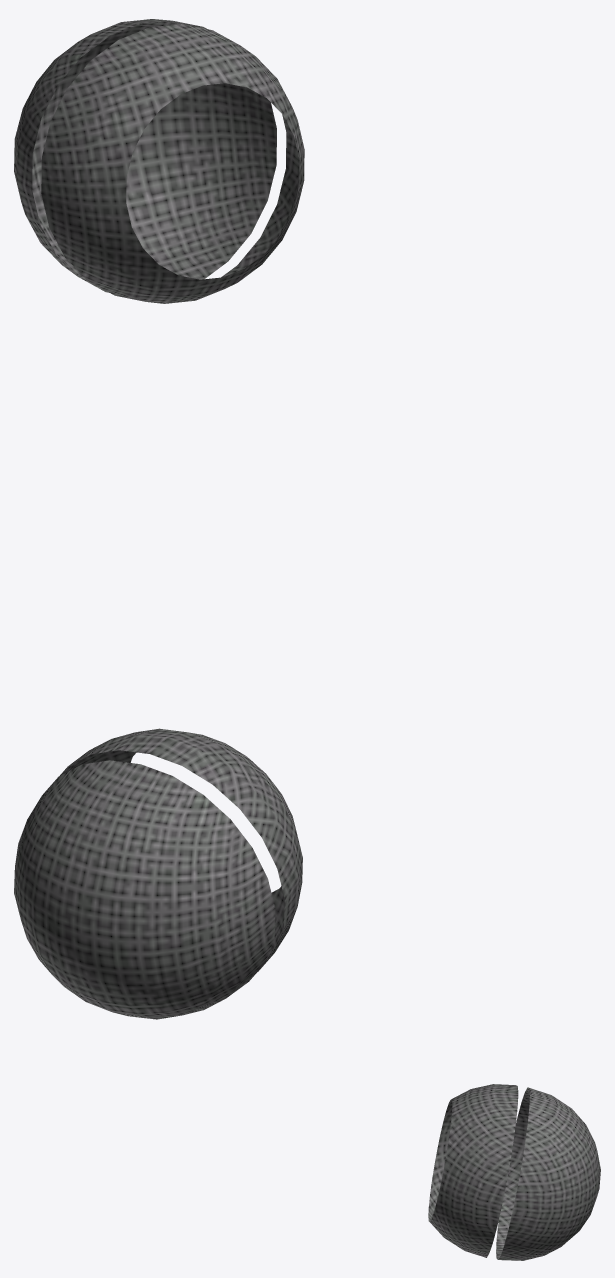
File: mic-self.fbx
The picture shows the model from 3 angles, top to bottom: view 1: azimuth 30°, elevation 25°; view 2: azimuth 150°, elevation 25°; view 3: azimuth 270°, elevation 25°; orthographic projection. The views are drawn at different scales.
Parts seen in each view (by area): view 1: 40_mesh3_1_0_0; view 2: 40_mesh3_1_0_0; view 3: 40_mesh3_1_0_0.
Part boxes in pixels (left/top/right/bottom): 40_mesh3_1_0_0: left=14, top=19, right=304, bottom=303; 40_mesh3_1_0_0: left=14, top=728, right=302, bottom=1019; 40_mesh3_1_0_0: left=428, top=1084, right=600, bottom=1260.
Bounding box in the file's own units: 8.32 × 10.24 × 26.49.
Materials: 1 (1 with a texture image).
